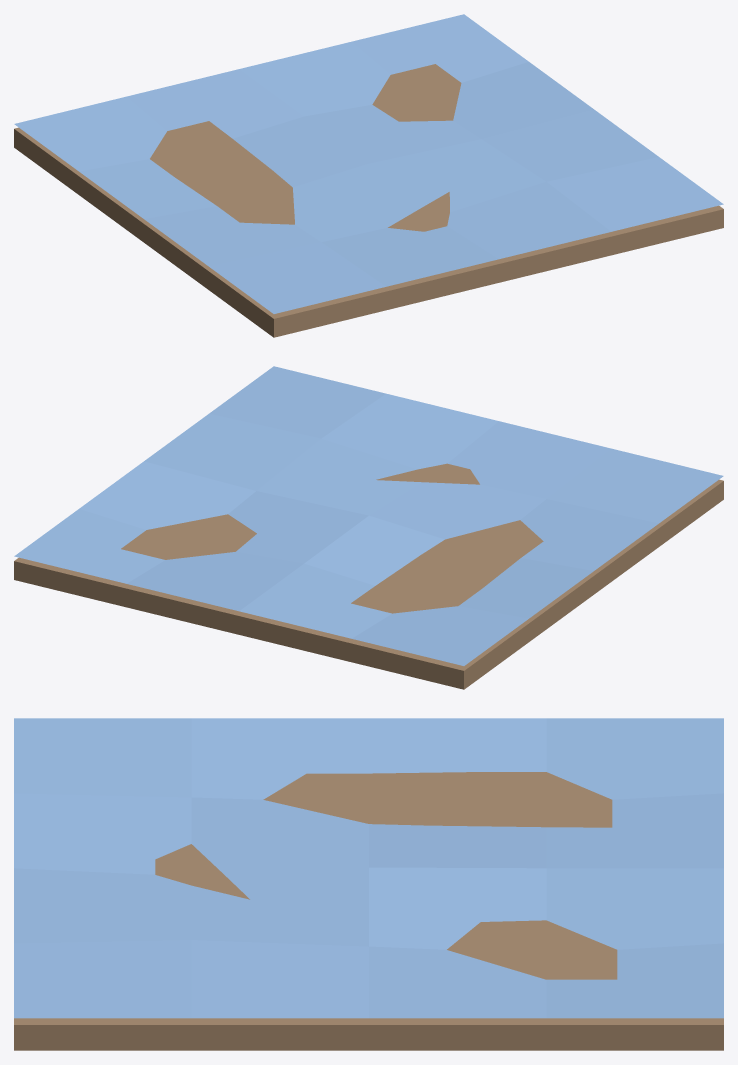
Rendered from terrain_foil_river.glb.
3 renders of one model, top to bottom at view 1: azimuth 30°, elevation 25°; view 2: azimuth 150°, elevation 25°; view 3: azimuth 270°, elevation 25°, orthographic. The views are drawn at different scales.
Parts seen in each view (by area): view 1: terrain_foil_river; view 2: terrain_foil_river; view 3: terrain_foil_river.
Part boxes in pixels (<box>): terrain_foil_river: <box>14,14,723,337</box>; terrain_foil_river: <box>14,366,723,689</box>; terrain_foil_river: <box>14,718,723,1050</box>.
Bounding box in the file's own units: 1 × 0.0554 × 1.
